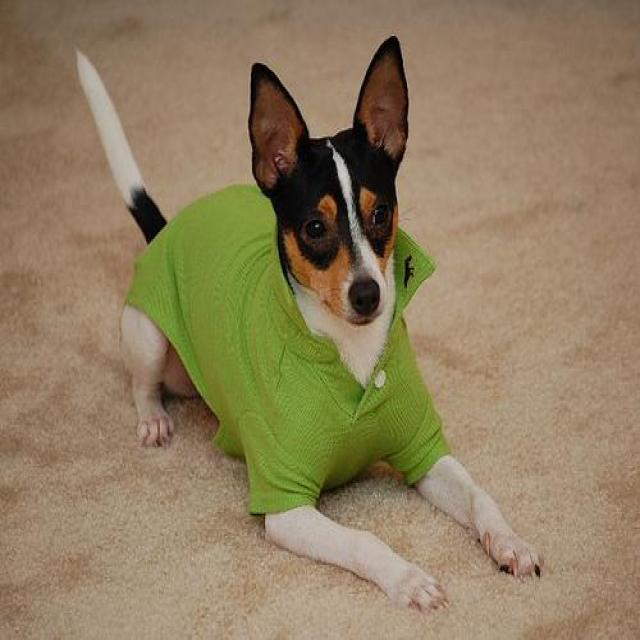toy_terrier: (68, 34, 544, 616)
